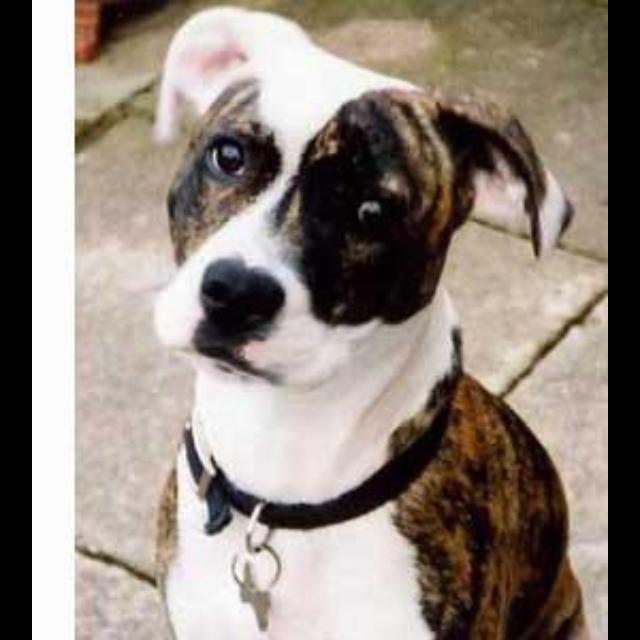staffford: (151, 82, 594, 638)
